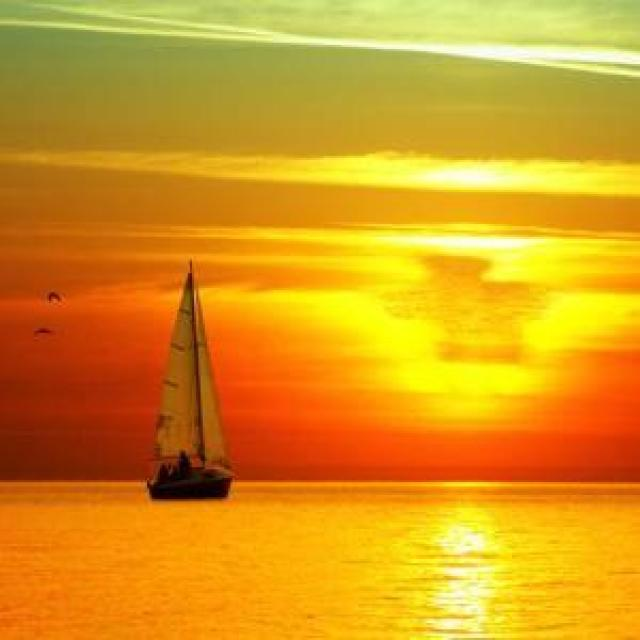sailboat: (138, 257, 240, 499)
